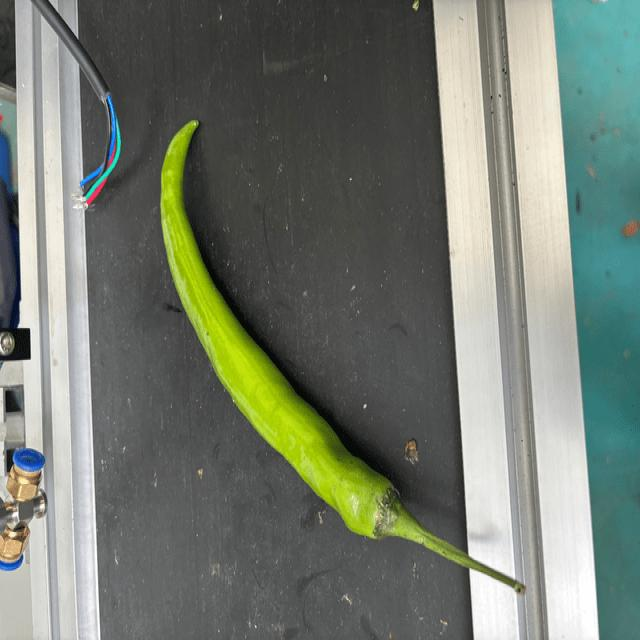chili: (160, 117, 403, 542)
